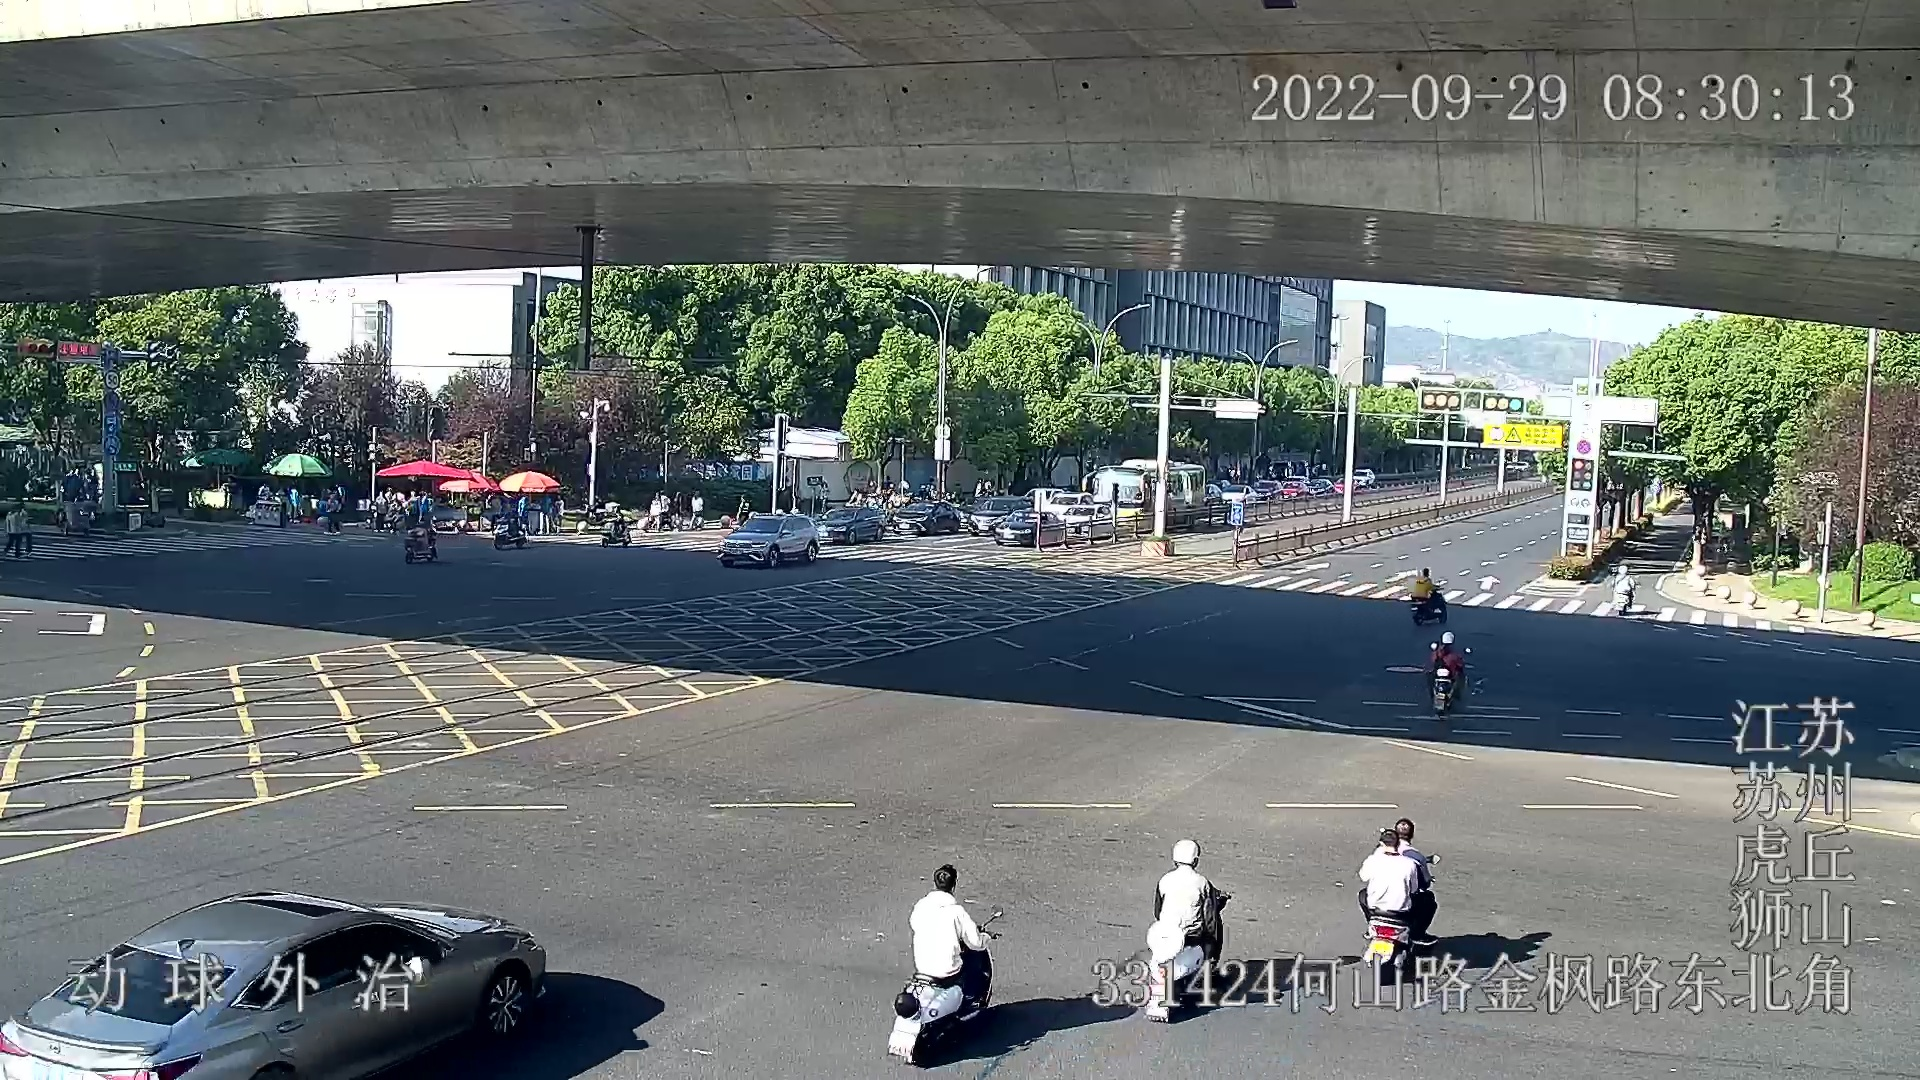头肩: (1365, 825, 1415, 873), (914, 864, 959, 916), (1159, 837, 1208, 884), (1373, 818, 1427, 858), (1436, 632, 1456, 658), (1416, 567, 1431, 585), (1615, 564, 1629, 580)
机动车: (9, 887, 547, 1080), (1088, 460, 1207, 531), (719, 514, 819, 568), (818, 508, 887, 546), (891, 500, 961, 535), (996, 512, 1063, 547), (967, 495, 1029, 533), (1065, 506, 1114, 541)
行人: (910, 865, 993, 1004), (1153, 837, 1220, 971), (1360, 824, 1429, 938), (1433, 632, 1465, 695), (1414, 568, 1443, 613), (1611, 563, 1633, 613)
非机动车: (880, 860, 997, 1067), (1135, 833, 1221, 1018), (1356, 815, 1433, 967), (1428, 629, 1473, 719), (1411, 567, 1449, 629), (1607, 564, 1633, 617)
